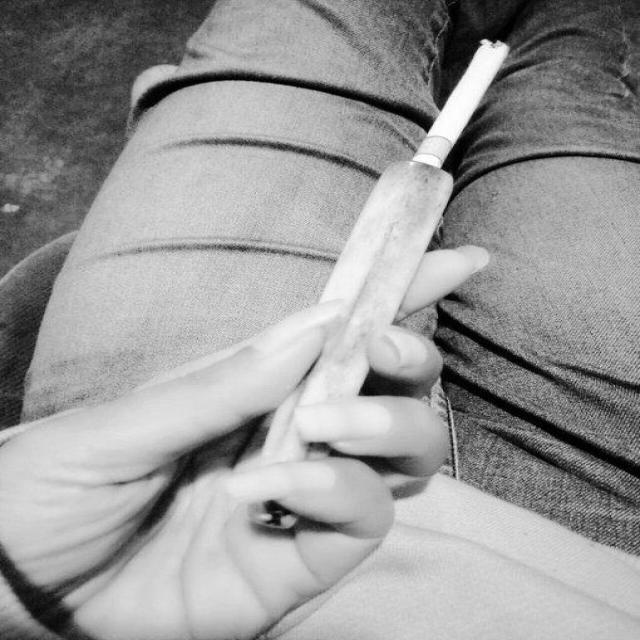rokok: (412, 36, 510, 168)
